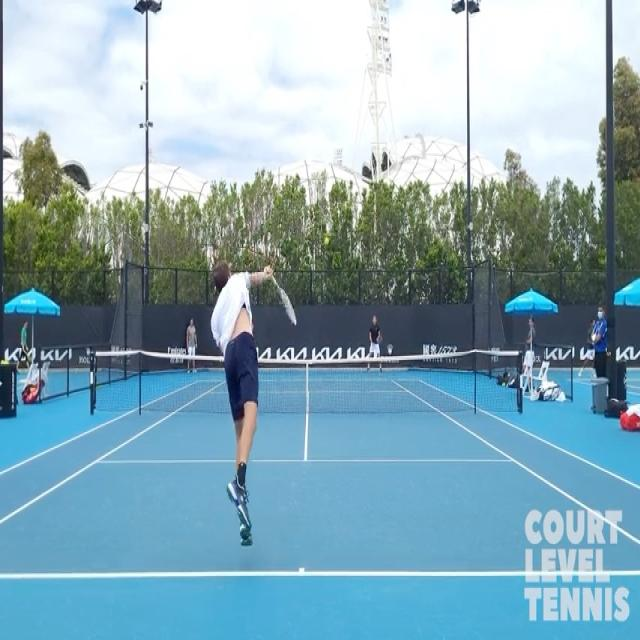serve_followthrough: (188, 245, 302, 560)
